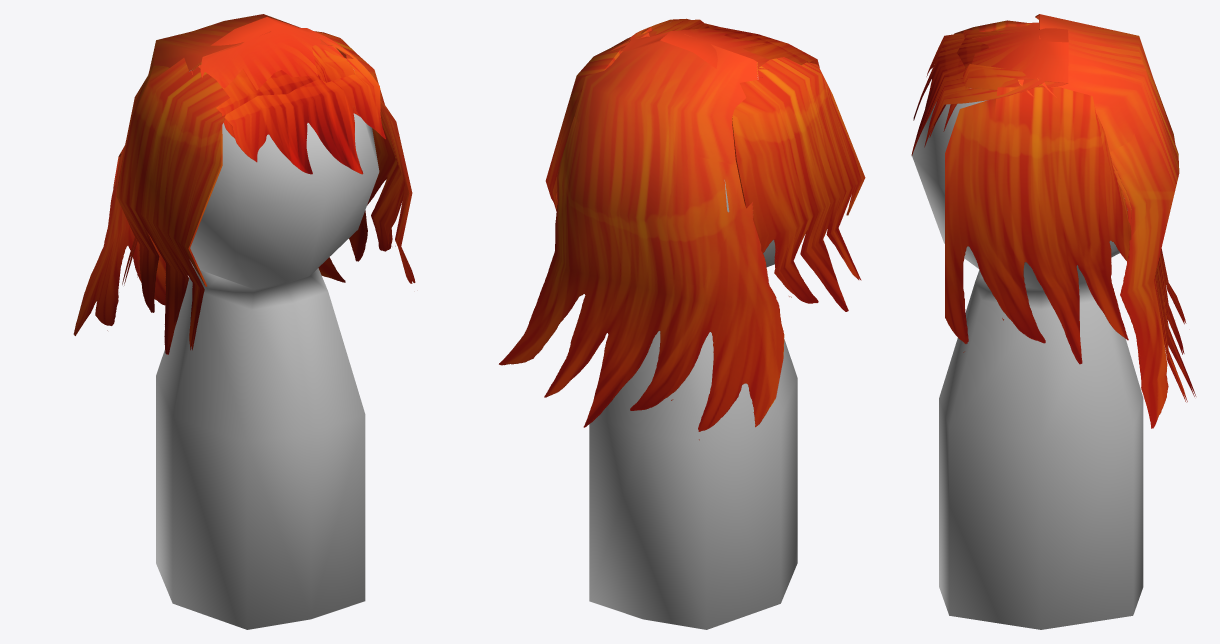
Rendered from Sereia.fbx.
3 renders of one model, left to right at view 1: azimuth 30°, elevation 25°; view 2: azimuth 150°, elevation 25°; view 3: azimuth 270°, elevation 25°, orthographic.
Parts seen in each view (by area): view 1: Sereia; view 2: Sereia; view 3: Sereia.
Part boxes in pixels (x1,y1,x2,y2): Sereia: [73, 14, 415, 629]; Sereia: [499, 18, 865, 629]; Sereia: [911, 14, 1196, 629].
Bounding box in the file's own units: 5.78 × 8.33 × 4.21.
